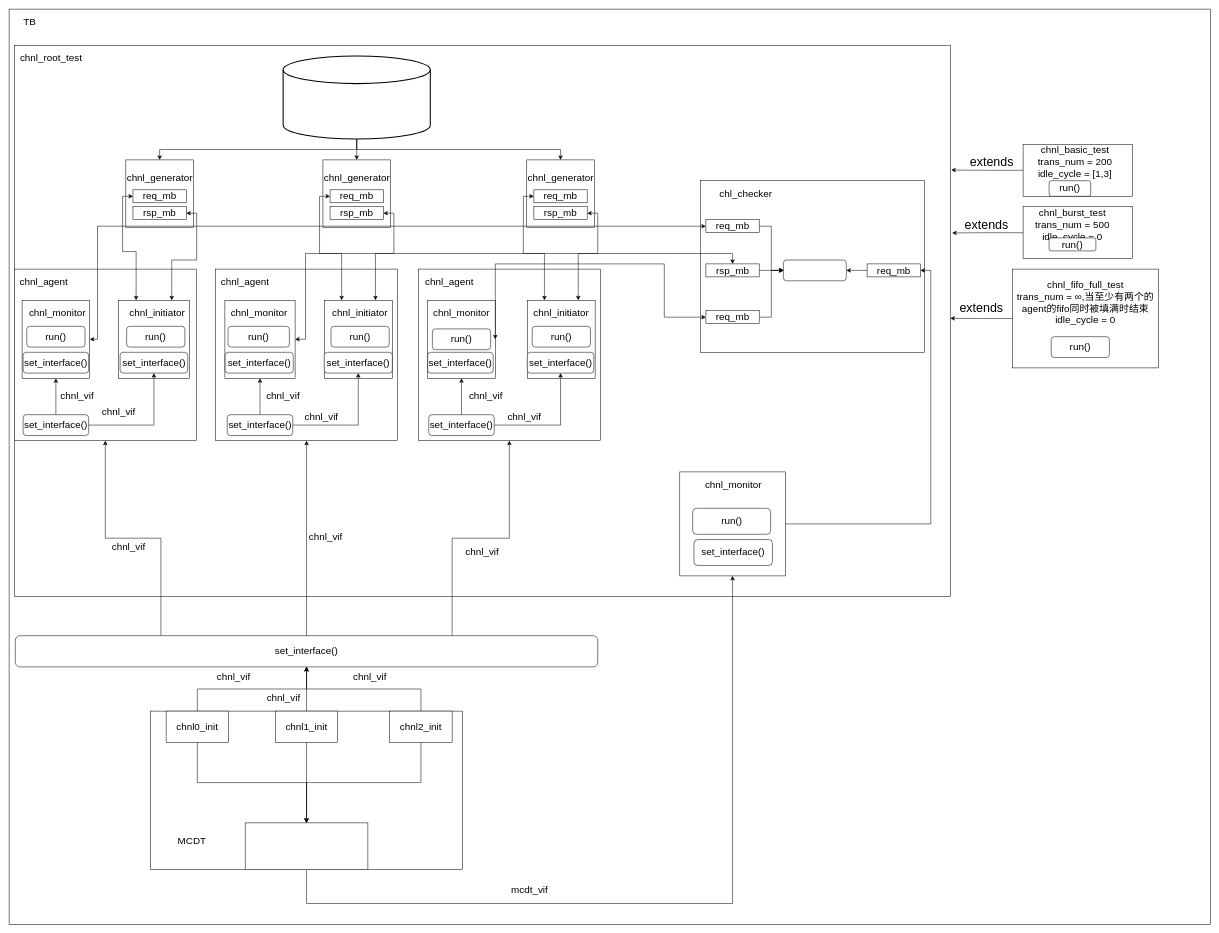
Some shapes in this 1219 by 933 pixel diagram are drawn without their labels. Here are the shapes that lost their labels. From the top down, the centre of each, then its label:
At [356,97]: "do_config()".
At [814,270]: "do_compare()".
At [306,846]: "Arbiter".
